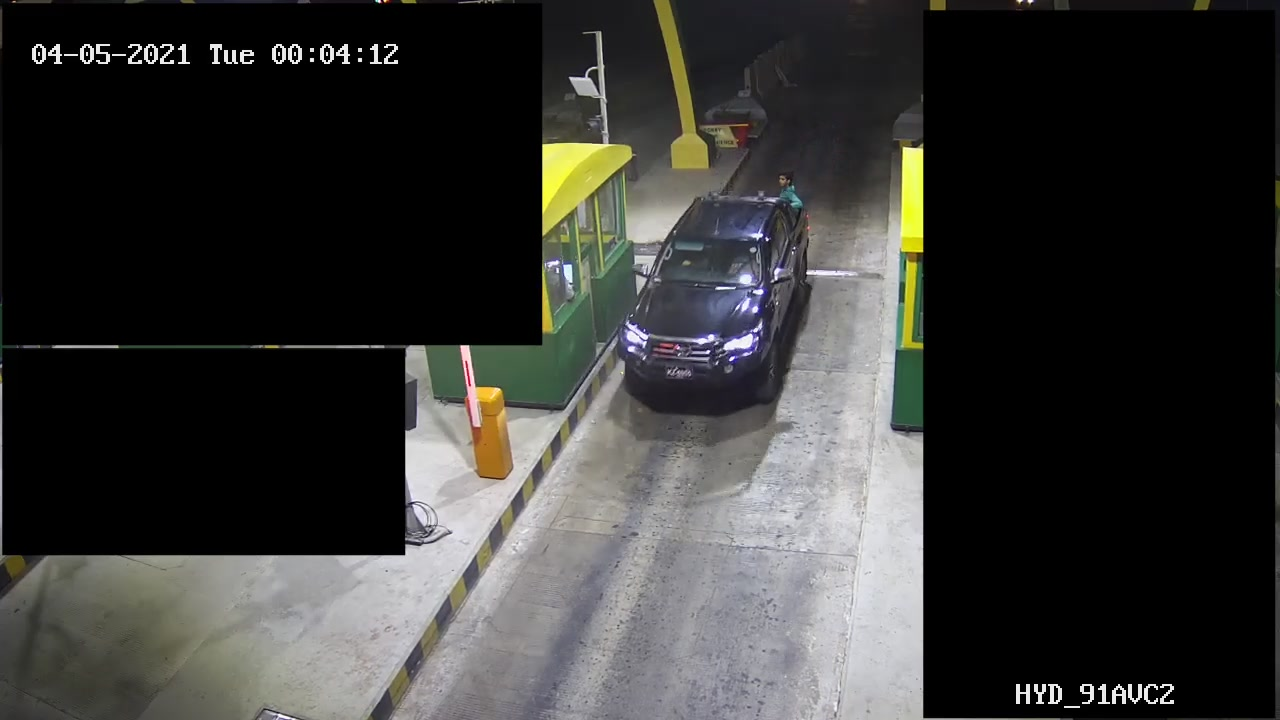F1: (616, 168, 811, 412)
